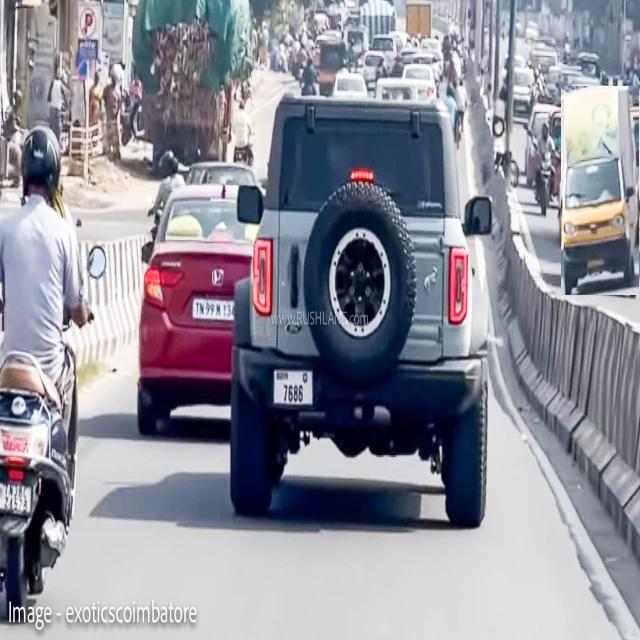car: (230, 98, 491, 527), (138, 187, 259, 433)
motorcycle: (0, 127, 111, 622)
truck: (561, 86, 640, 295)
